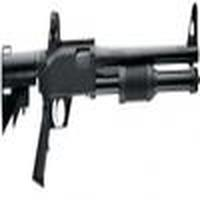gun: (1, 25, 200, 141)
